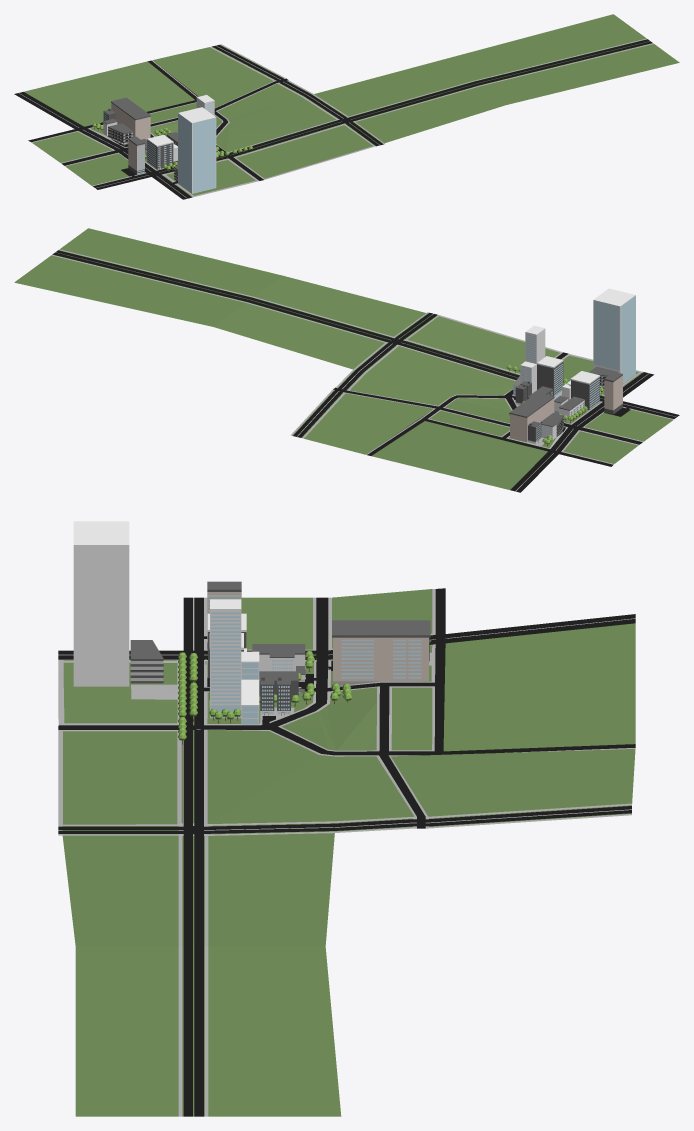
Rendered from city3.glb.
3 views of the same model, one above another, from view 1: azimuth 30°, elevation 25°; view 2: azimuth 150°, elevation 25°; view 3: azimuth 270°, elevation 25° (orthographic). The views are drawn at different scales.
Visible parts, largest first — view 1: road, building_9, building_4.001, building_4, building_3.001, building_8.001; view 2: road, building_9, building_4.001, building_7, building_3, building_4, building_3.001; view 3: road, building_9, building_4.001, building_7, building_8, building_1.001.
Boxes of the visible parts, bbox=[...] form: road: bbox=[14, 14, 679, 199]; building_9: bbox=[178, 107, 216, 193]; building_4.001: bbox=[111, 97, 150, 139]; building_4: bbox=[147, 134, 173, 169]; building_3.001: bbox=[128, 136, 144, 174]; building_8.001: bbox=[108, 123, 133, 145]; road: bbox=[14, 228, 679, 492]; building_9: bbox=[593, 288, 635, 383]; building_4.001: bbox=[509, 392, 554, 441]; building_7: bbox=[513, 325, 545, 395]; building_3: bbox=[537, 356, 563, 399]; building_4: bbox=[570, 371, 600, 409]; building_3.001: bbox=[604, 372, 622, 414]; road: bbox=[58, 588, 635, 1116]; building_9: bbox=[73, 521, 129, 686]; building_4.001: bbox=[332, 620, 430, 685]; building_7: bbox=[210, 599, 259, 724]; building_8: bbox=[130, 640, 163, 683]; building_1.001: bbox=[260, 676, 290, 715].
Size of the model in its own units: 1158 by 142 by 517.
